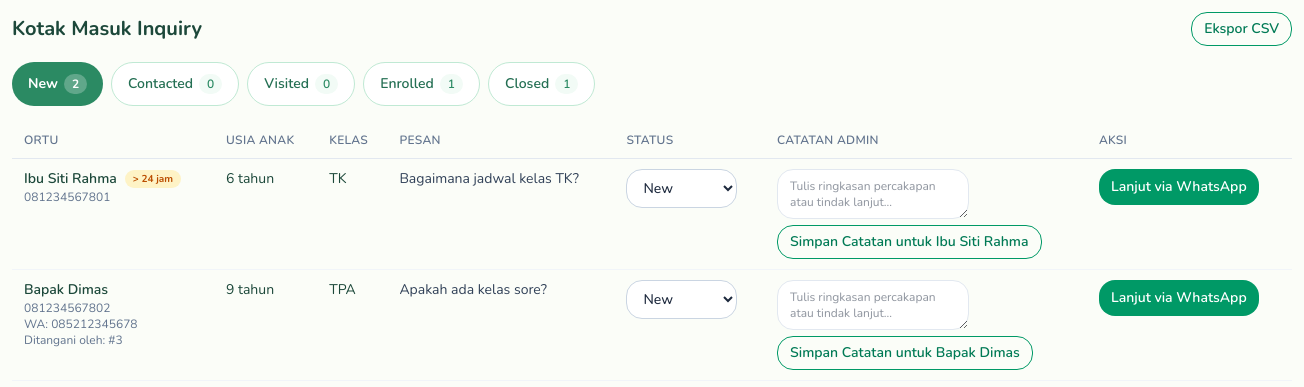
Test: Inquiry inbox › filters by pipeline tab: Closed shows anonymized row, Enrolled shows SMS hint
The width and height of the screenshot is (1304, 387).
Check: the text "Ibu Siti Rahma" is shown, box [24,169,117,189]
Click the button "Closed 1" at [542, 84], box [488,62,595,106]
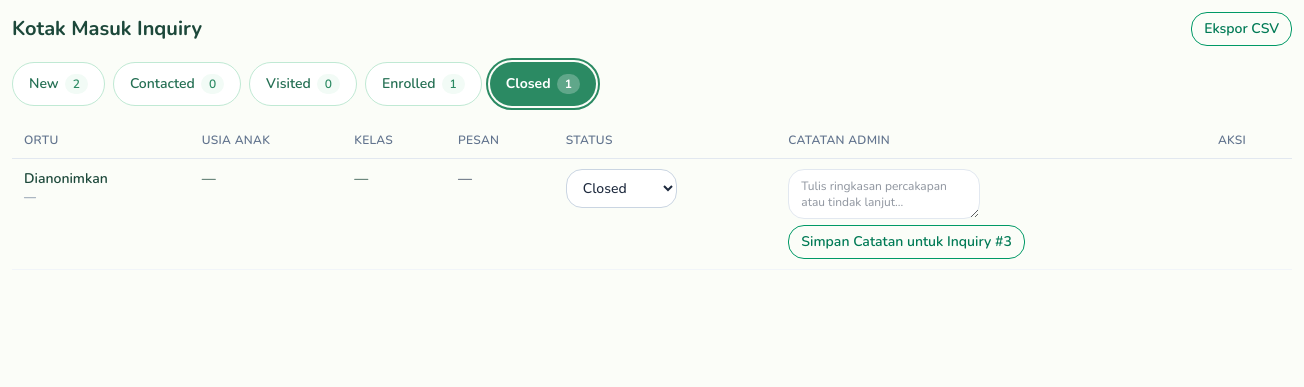
Check: the text "Dianonimkan" is shown, box [24,169,108,189]
Click the button "Enrolled 1" at [423, 84], box [365,62,482,106]
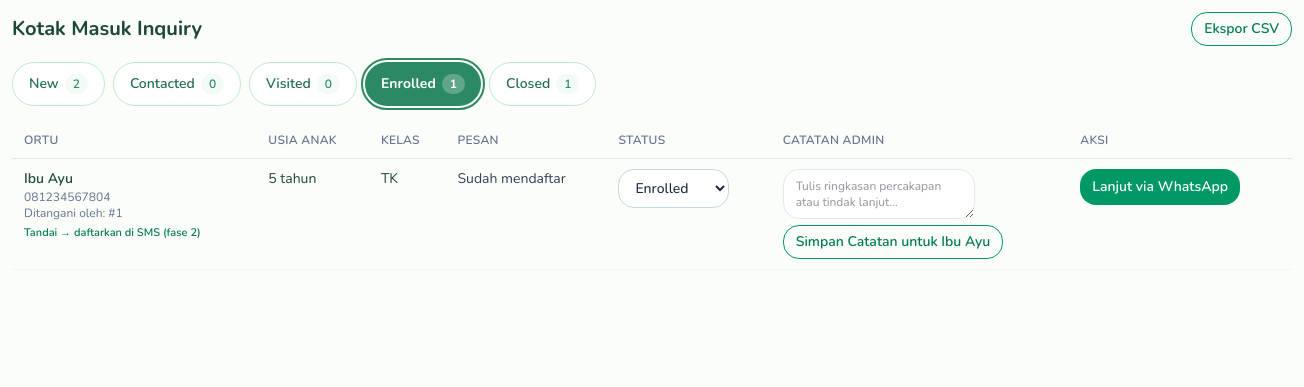
Check: the text "Ibu Ayu" is shown, box [24,169,73,189]
